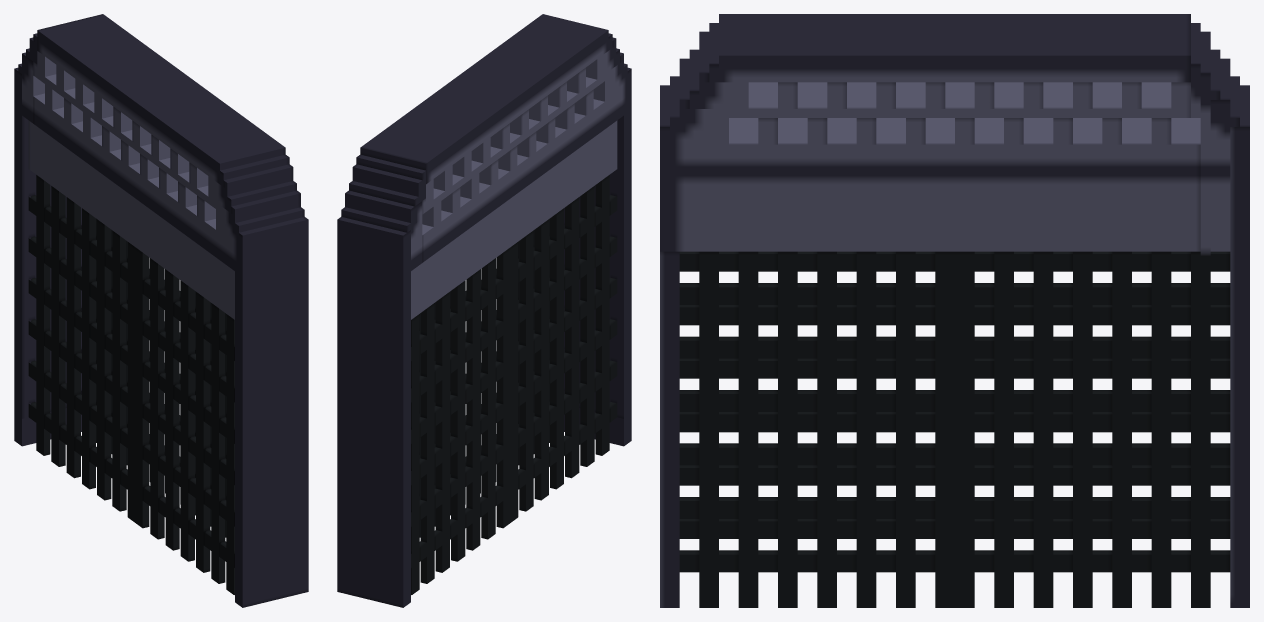
Rendered from kraty_durze_dzwi.dae.
The picture shows the model from 3 angles, left to right: view 1: azimuth 30°, elevation 25°; view 2: azimuth 150°, elevation 25°; view 3: azimuth 270°, elevation 25°; orthographic projection. The views are drawn at different scales.
Parts seen in each view (by area): view 1: Content; view 2: Content; view 3: Content.
Part boxes in pixels (box(x1,y1,x2,y2)): Content: box(14, 14, 308, 607); Content: box(337, 14, 631, 607); Content: box(660, 14, 1249, 607).
Bounding box in the file's own units: 10 × 62 × 60.
Materials: 1 (1 with a texture image).
